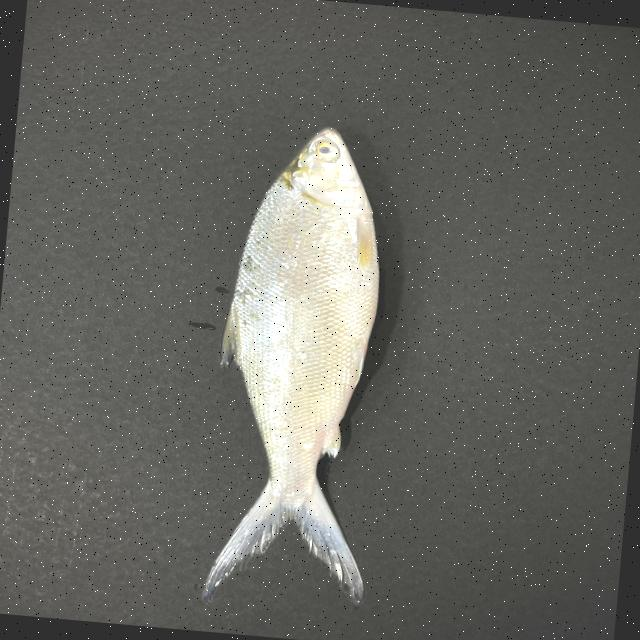340 g: (198, 116, 406, 613)
